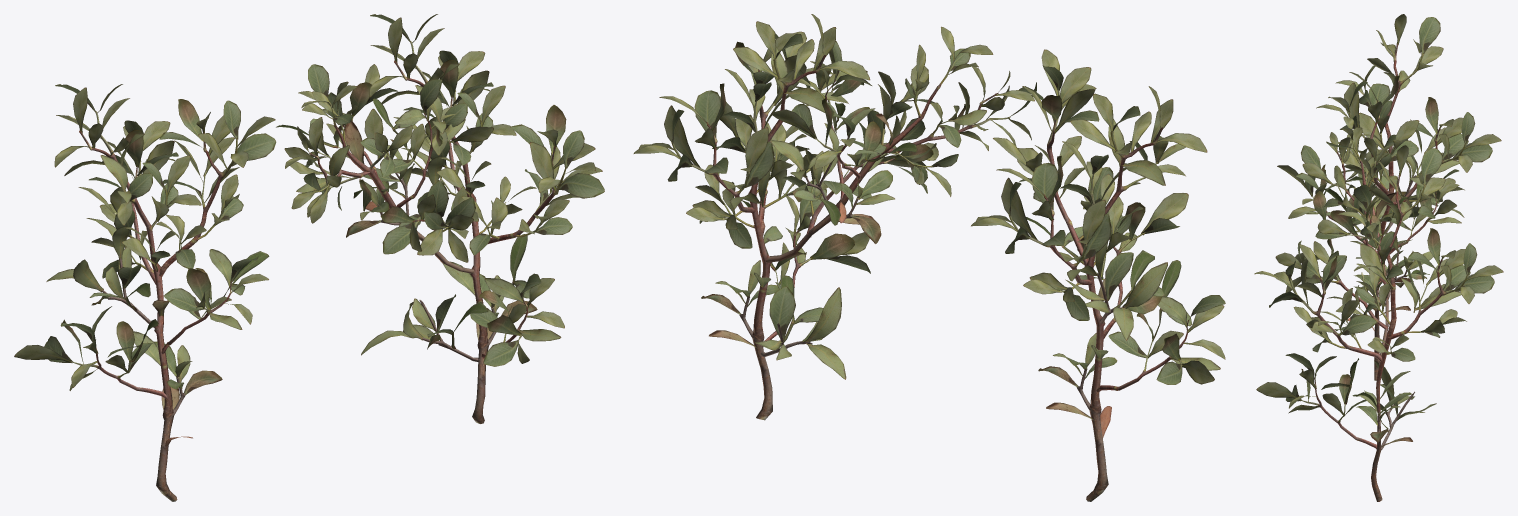
3 renders of one model, left to right at view 1: azimuth 30°, elevation 25°; view 2: azimuth 150°, elevation 25°; view 3: azimuth 270°, elevation 25°, orthographic. The views are drawn at different scales.
Visible parts, largest first — view 1: shrub_04; view 2: shrub_04; view 3: shrub_04.
Part boxes in pixels (box(x1,y1,x2,y2)): shrub_04: box(14, 14, 604, 501); shrub_04: box(633, 14, 1225, 501); shrub_04: box(1254, 14, 1503, 501).
Size of the model in its own units: 0.2907 by 0.2192 by 0.1461.
Materials: 1 (1 with a texture image).
